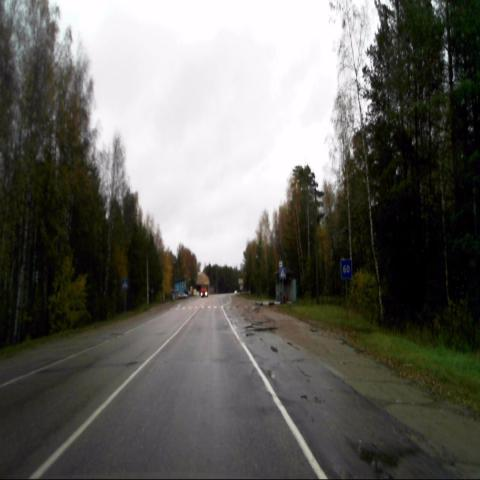6_2: (340, 260, 352, 280)
